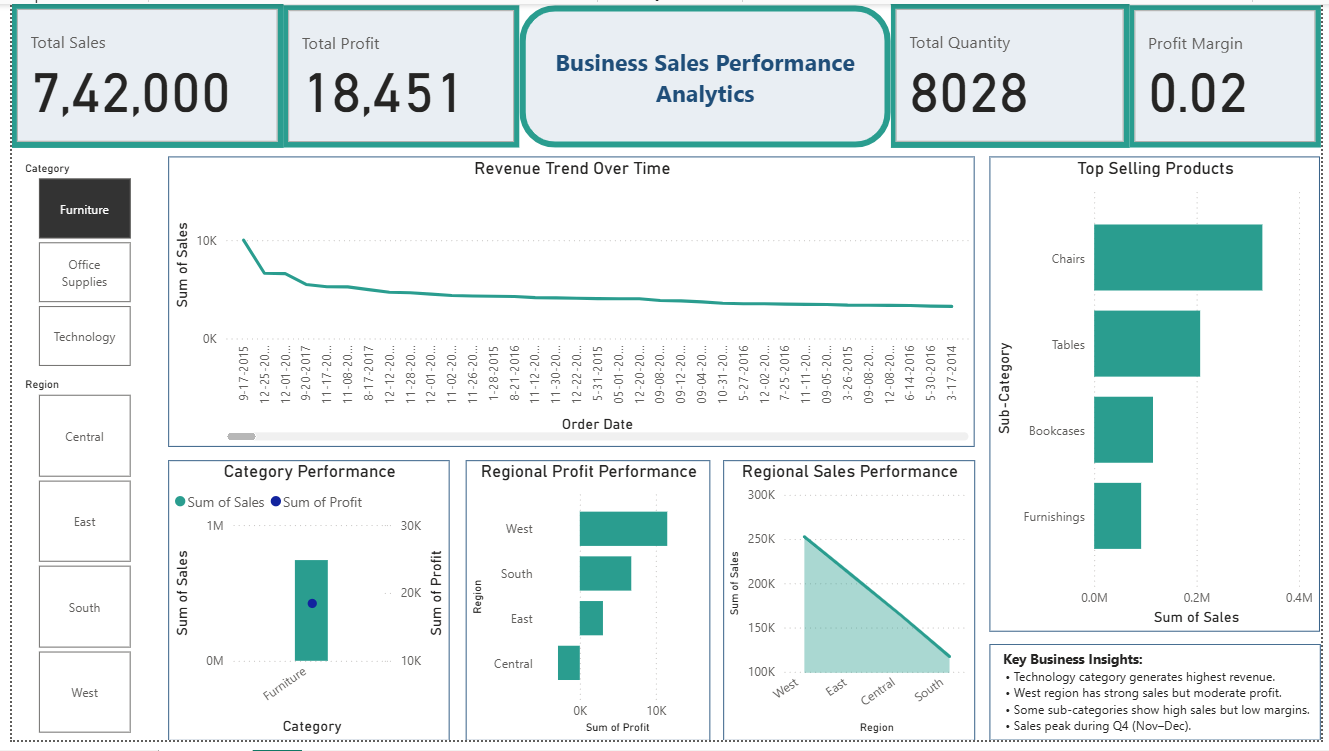

The dashboard page shown, as its layout file describes it:
{"tool":"powerbi","page":{"name":"Page 1","canvas":[1280,720],"ordinal":0},"visuals":[{"type":"cardVisual","fields":{"Data":["all measures (2).Total Sales"]},"box":[0,0,265.4,140.6],"z":0},{"type":"cardVisual","fields":{"Data":["all measures (2).Total Profit"]},"box":[265.4,1.2,231.1,139.4],"z":1000},{"type":"cardVisual","fields":{"Data":["all measures (2).Total Quantity"]},"box":[859.6,0,233.6,140.6],"z":2000},{"type":"cardVisual","fields":{"Data":["all measures (2).Profit Margin"]},"box":[1093.2,1.2,187.1,139.4],"z":3000},{"type":"lineChart","title":"Revenue Trend Over Time","fields":{"Category":["Sample - Superstore.Order Date"],"Y":["Sum(Sample - Superstore.Sales)"]},"box":[152.9,148.6,789.2,284.2],"z":4000},{"type":"clusteredBarChart","title":"Top Selling Products","fields":{"Category":["Sample - Superstore.Sub-Category"],"Y":["Sum(Sample - Superstore.Sales)"]},"box":[956.5,148.6,323.2,464.6],"z":5000},{"type":"areaChart","title":"Regional Sales Performance","fields":{"Category":["Sample - Superstore.Region"],"Y":["Sum(Sample - Superstore.Sales)"]},"box":[695.4,445.8,246.7,274.1],"z":6000},{"type":"barChart","title":"Regional Profit Performance","fields":{"Category":["Sample - Superstore.Region"],"Y":["Sum(Sample - Superstore.Profit)"]},"box":[444.4,445.8,239.5,274.1],"z":7000},{"type":"lineStackedColumnComboChart","title":"Category Performance ","fields":{"Y":["Sum(Sample - Superstore.Sales)"],"Y2":["Sum(Sample - Superstore.Profit)"],"Category":["Sample - Superstore.Category"]},"box":[152.9,445.8,275.6,274.1],"z":8000},{"type":"slicer","fields":{"Values":["Sample - Superstore.Region"]},"box":[0,360.7,139.9,359.2],"z":9000},{"type":"slicer","fields":{"Values":["Sample - Superstore.Category"]},"box":[0,148.6,139.9,212.1],"z":10000},{"type":"textbox","box":[956.3,626.1,324.1,94.2],"z":11000},{"type":"shape","box":[496.5,1.2,363.2,139.4],"z":11001}]}

Visuals, with their boxes in screenshot pixels (x1, y1, x2, y2), scaled from the page's 1280x720 canvas onto the 1329x751 screenshot:
cardVisual - all measures (2).Total Sales: box(0, 0, 276, 147)
cardVisual - all measures (2).Total Profit: box(276, 1, 516, 147)
cardVisual - all measures (2).Total Quantity: box(893, 0, 1135, 147)
cardVisual - all measures (2).Profit Margin: box(1135, 1, 1328, 147)
"Revenue Trend Over Time" lineChart: box(159, 155, 978, 451)
"Top Selling Products" clusteredBarChart: box(993, 155, 1328, 640)
"Regional Sales Performance" areaChart: box(722, 465, 978, 750)
"Regional Profit Performance" barChart: box(461, 465, 710, 750)
"Category Performance " lineStackedColumnComboChart: box(159, 465, 445, 750)
slicer - Sample - Superstore.Region: box(0, 376, 145, 750)
slicer - Sample - Superstore.Category: box(0, 155, 145, 376)
textbox: box(993, 653, 1328, 750)
shape: box(516, 1, 893, 147)
